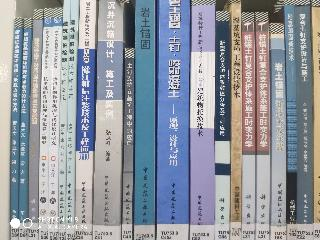book-spine: (158, 0, 190, 240), (94, 1, 125, 240), (191, 0, 215, 240), (134, 1, 155, 240), (77, 1, 96, 239), (282, 1, 299, 240), (295, 1, 312, 239), (29, 9, 43, 240), (270, 24, 285, 239), (40, 8, 53, 239), (216, 12, 229, 239), (257, 13, 270, 239), (19, 19, 32, 240), (67, 1, 79, 239), (50, 9, 62, 240), (243, 13, 255, 239), (10, 18, 22, 240), (59, 1, 70, 240), (231, 1, 241, 240), (123, 48, 133, 239)
